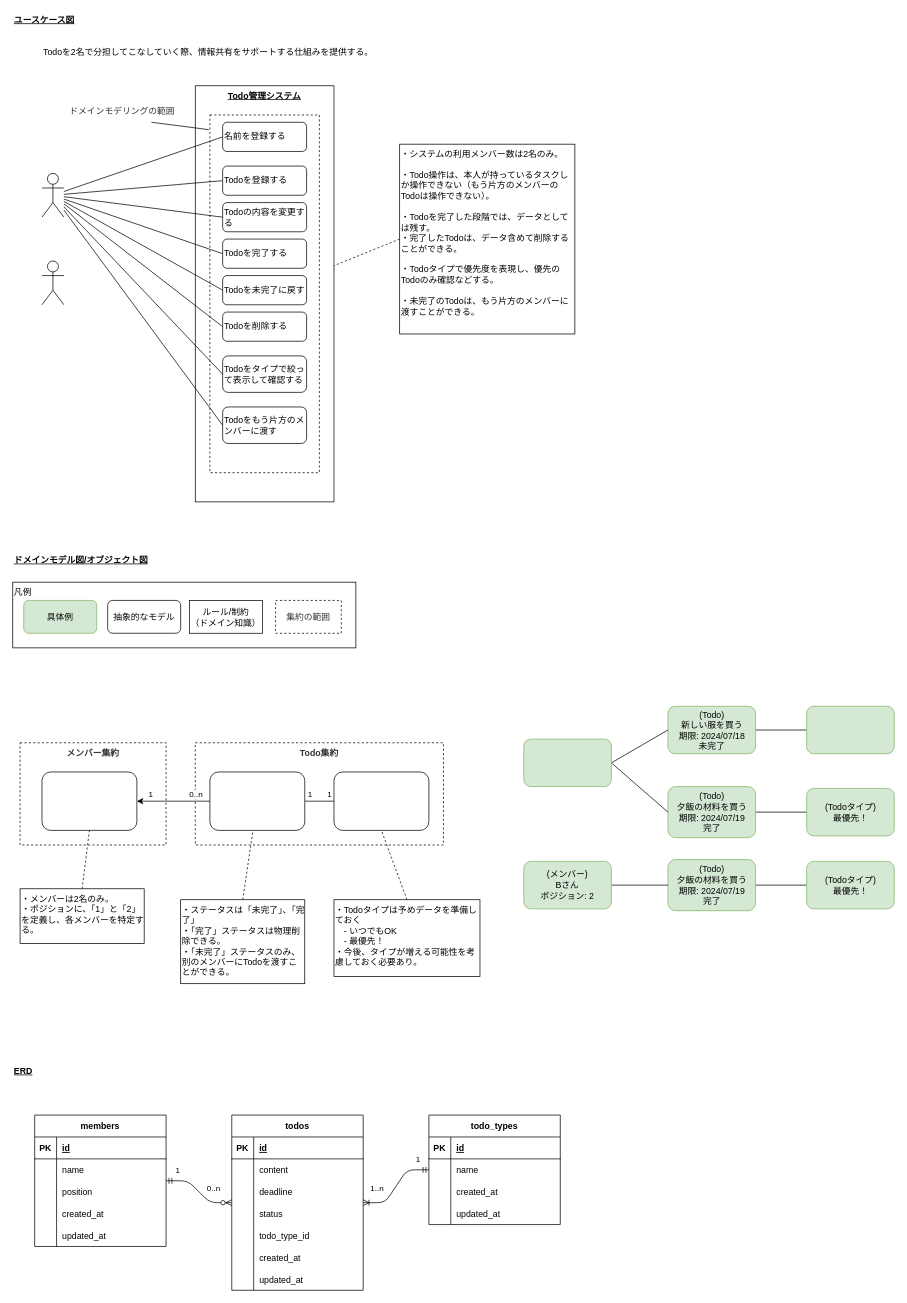
This 907x1303 diagram has some shape labels left out. The shapes that lost their labels are listed below. From the top down, each one's centre as x and y in pixels, then its label:
At (52,195): "メンバー1".
At (52,282): "メンバー2".
At (850,730): "(Todoタイプ) いつでもOK".
At (567,762): "(メンバー) Aさん ポジション: 1".
At (89,800): "メンバー (Member) 名前 ポジション".
At (257,800): "Todo (Todo) 内容 期限 ステータス".
At (381,800): "Todoタイプ (Todoype) 名前".
